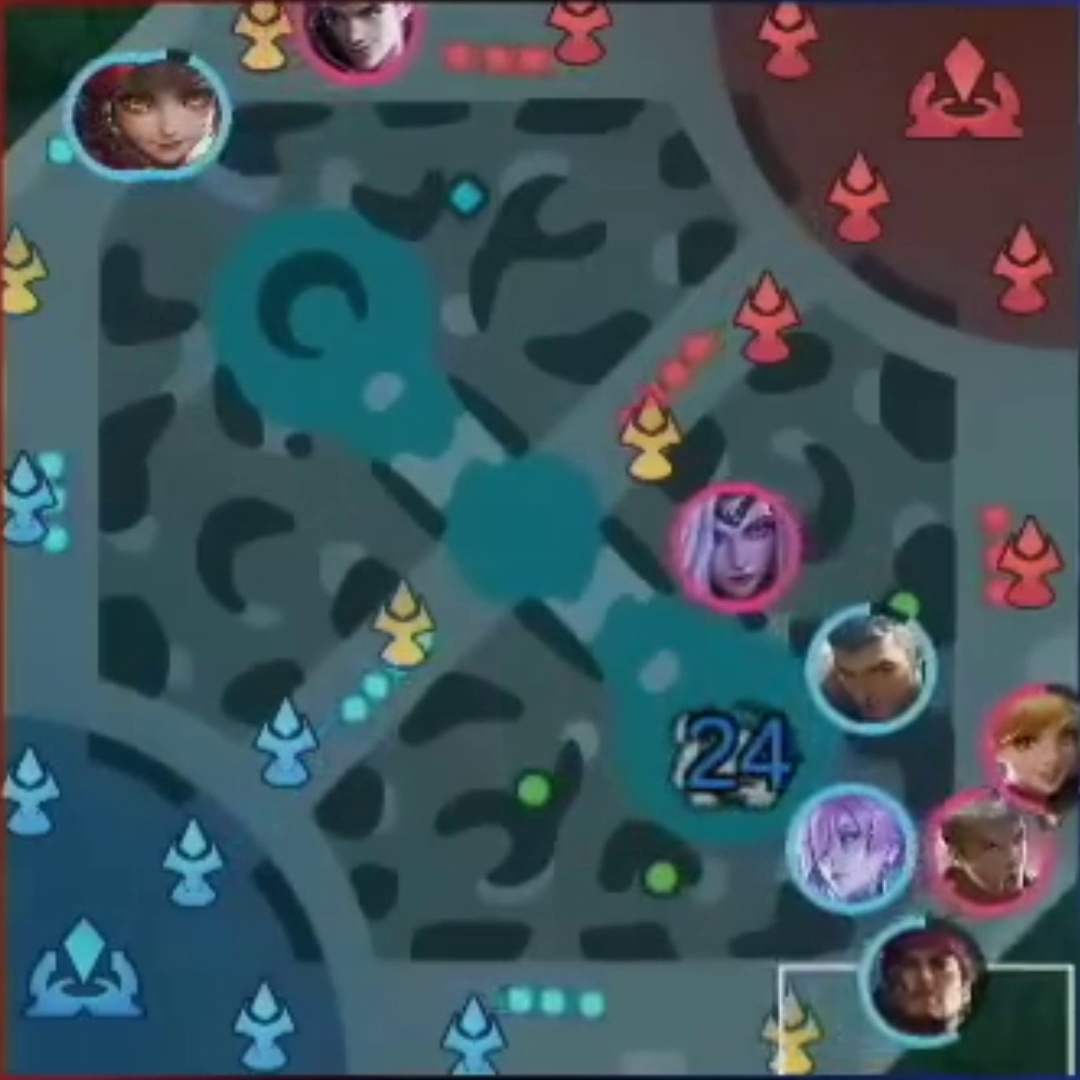Claude: (942, 811, 1028, 894), (318, 2, 398, 67)
Fanny: (1005, 700, 1076, 800)
Fredrinn: (825, 616, 916, 715)
Lapu-Lapu: (886, 930, 965, 1025)
Novaria: (807, 797, 901, 897)
Valentina: (690, 501, 775, 595)
Wanwan: (129, 72, 211, 157)
